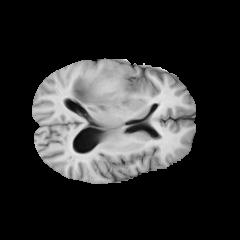glioma: (71, 63, 157, 111)
